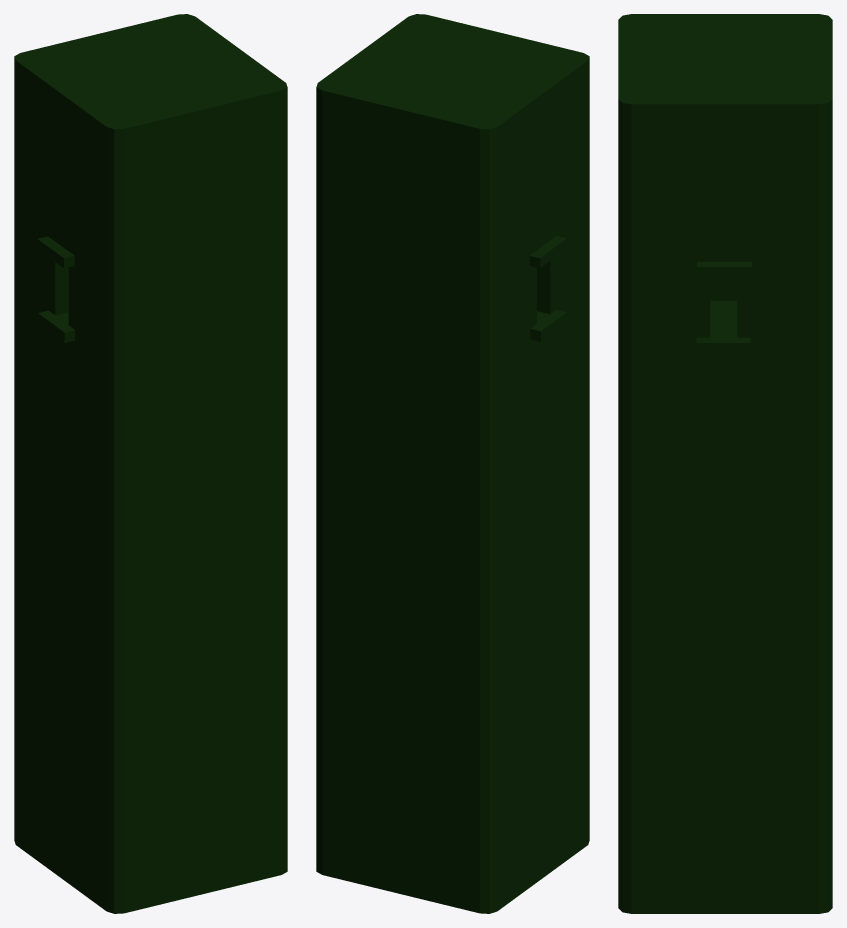
The model's file is tower2.fbx.
3 renders of one model, left to right at view 1: azimuth 30°, elevation 25°; view 2: azimuth 150°, elevation 25°; view 3: azimuth 270°, elevation 25°, orthographic. The views are drawn at different scales.
Visible parts, largest first — view 1: tower2; view 2: tower2; view 3: tower2.
Part boxes in pixels (box(x1,y1,x2,y2)): tower2: box(14, 14, 287, 913); tower2: box(316, 14, 589, 913); tower2: box(618, 14, 832, 913).
Size of the model in its own units: 1.72 by 6.43 by 1.54.
